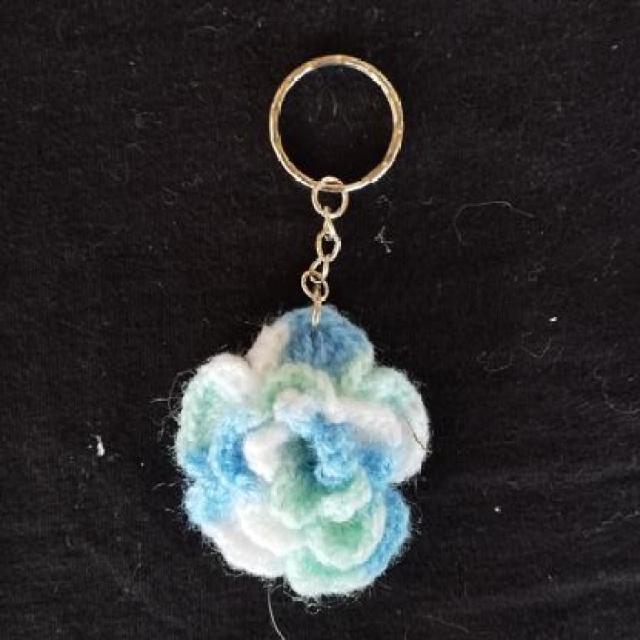Llavero: (171, 302, 432, 602)
